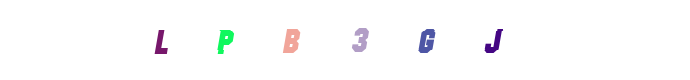3: (305, 0, 385, 80)
B: (294, 0, 374, 80)
G: (319, 0, 399, 80)
J: (382, 0, 462, 80)
L: (184, 0, 264, 80)
P: (251, 0, 331, 80)
